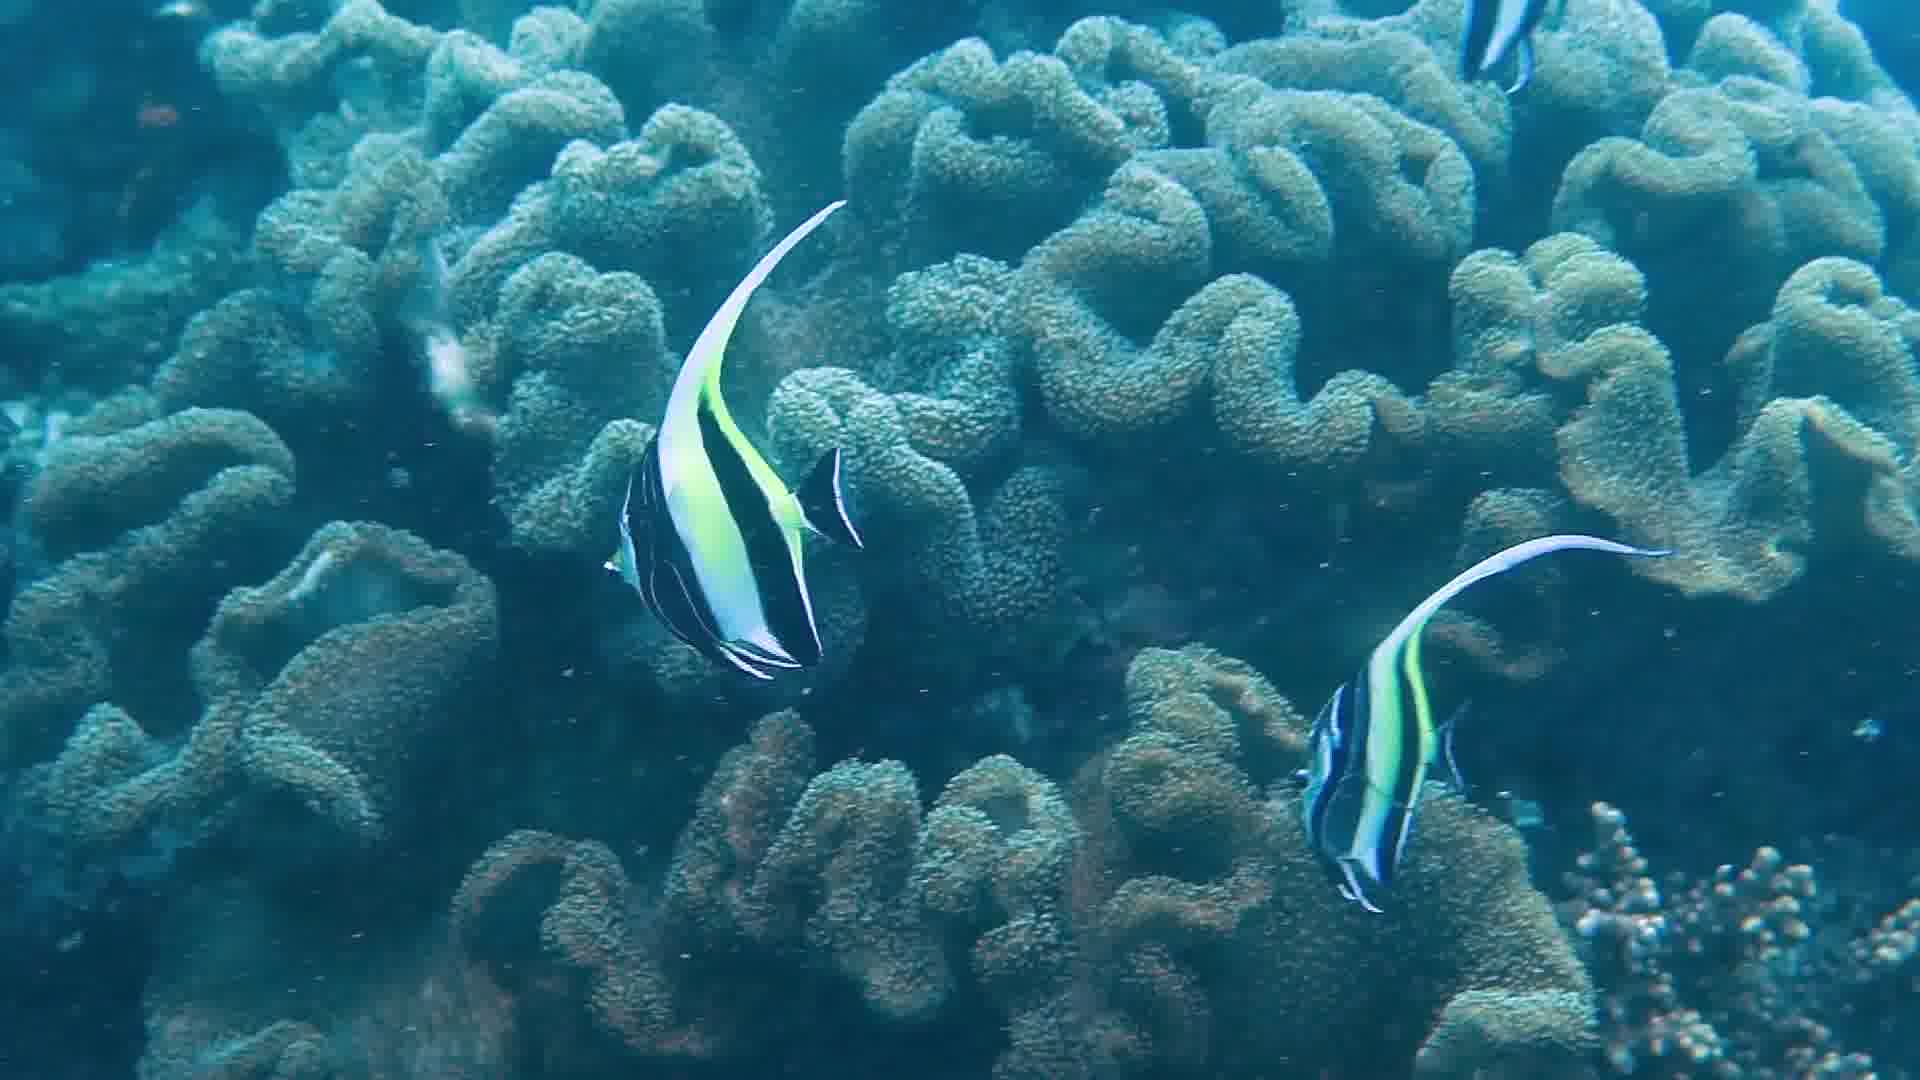Zanclus cornutus: (571, 364, 880, 670), (1262, 603, 1498, 907)
